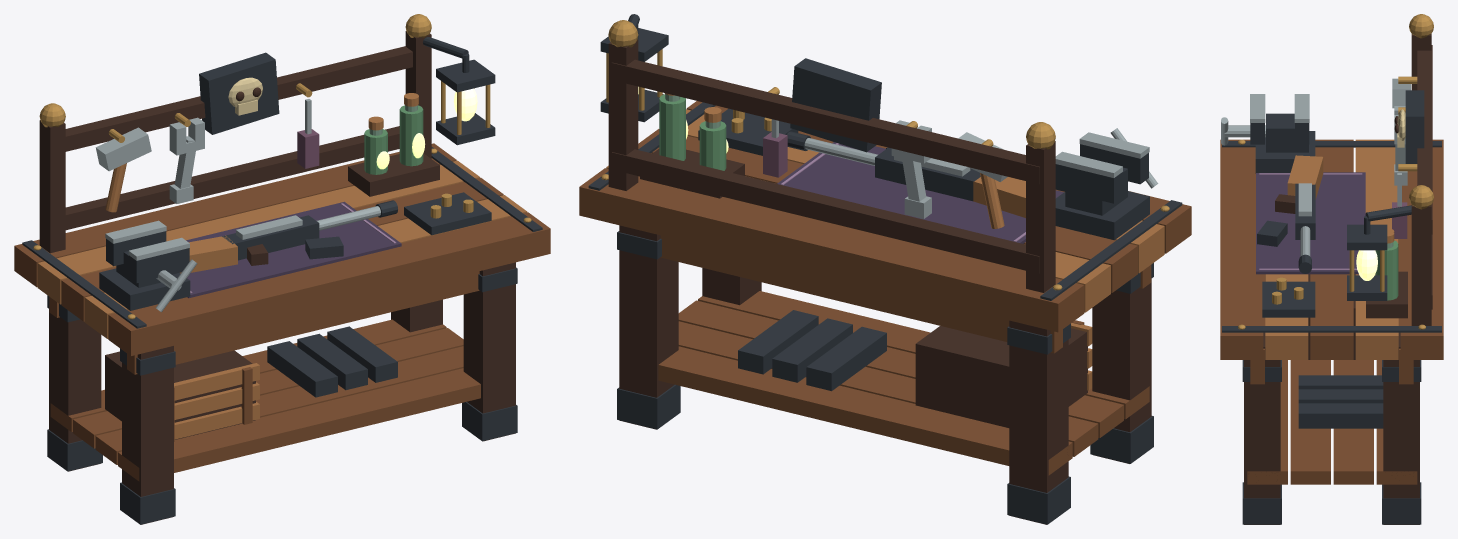
File: Workbench.glb
3 renders of one model, left to right at view 1: azimuth 30°, elevation 25°; view 2: azimuth 150°, elevation 25°; view 3: azimuth 270°, elevation 25°, orthographic. The views are drawn at different scales.
Parts seen in each view (by area): view 1: TopPlank, LowerShelf, TopPlank.004, OakLeg, Apron, ToolRail, OakLeg.002, ToolRail.001, WorkMat, TopPlank.003, OakLeg.001, CrestPlaque (+43 smaller); view 2: TopPlank.004, LowerShelf.003, ToolRail, ToolRail.001, SupplyCrate, OakLeg.001, Apron.001, OakLeg.003, WorkMat, OakLeg, CrestPlaque, LowerShelf.001 (+36 smaller); view 3: TopPlank, WorkMat, TopPlank.004, TopPlank.003, OakLeg.002, OakLeg.003, TopPlank.002, LowerShelf.001, LowerShelf.002, RackPost.001, SpareMetal.002, TopPlank.001 (+40 smaller).
Boxes of the visible parts, x1,y1,x2,y2 form: TopPlank: (108,212,550,355); LowerShelf: (118,368,480,481); TopPlank.004: (14,143,456,287); OakLeg: (122,346,173,524); Apron: (127,271,479,374); ToolRail: (65,126,399,230); OakLeg.002: (463,262,515,441); ToolRail.001: (65,46,412,151); WorkMat: (186,201,401,298); TopPlank.003: (37,160,480,304); OakLeg.001: (49,309,101,471); CrestPlaque: (199,52,279,134); TopPlank.004: (579,168,1084,332); LowerShelf.003: (658,346,1072,475); ToolRail: (611,149,1039,273); ToolRail.001: (611,59,1039,184); SupplyCrate: (915,326,1087,427); OakLeg.001: (1009,320,1068,524); Apron.001: (660,235,1062,353); OakLeg.003: (619,225,678,429); WorkMat: (777,142,1063,243); OakLeg: (1092,279,1151,463); CrestPlaque: (790,58,881,152); LowerShelf.001: (678,300,1123,437); TopPlank: (1220,139,1263,359); WorkMat: (1256,172,1365,274); TopPlank.004: (1400,139,1443,359); TopPlank.003: (1355,139,1398,359); OakLeg.002: (1244,332,1280,524); OakLeg.003: (1383,332,1419,524); TopPlank.002: (1310,139,1353,359); LowerShelf.001: (1290,360,1330,484); LowerShelf.002: (1333,360,1373,484); RackPost.001: (1411,205,1431,325); SpareMetal.002: (1298,403,1383,428); TopPlank.001: (1265,274,1308,359).
Bounding box in the file's own units: 7.18 × 5.6 × 3.37.
